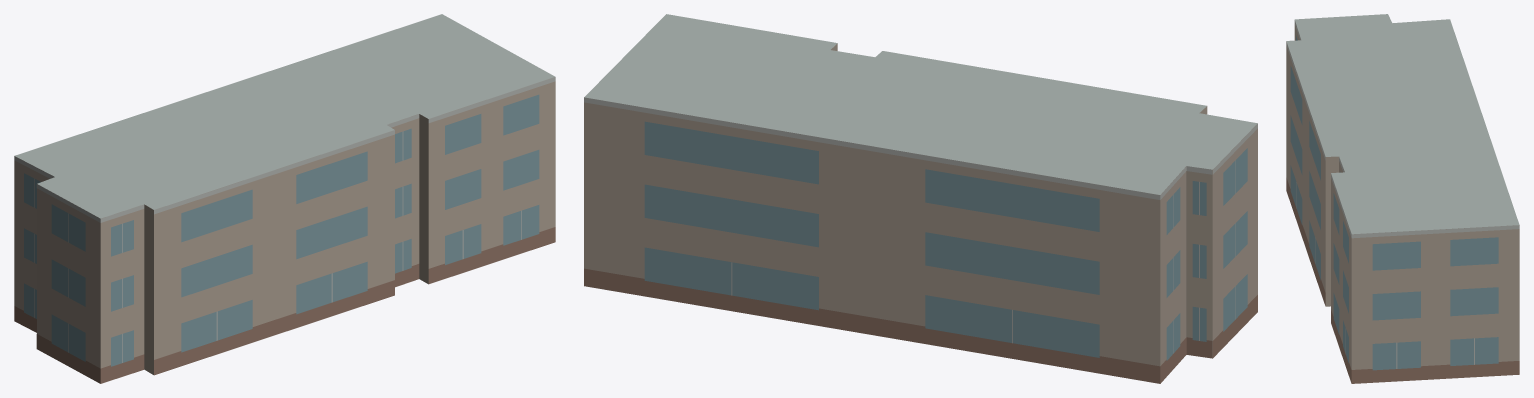
Rendered from survey-upis-33038141.glb.
3 renders of one model, left to right at view 1: azimuth 30°, elevation 25°; view 2: azimuth 150°, elevation 25°; view 3: azimuth 270°, elevation 25°, orthographic. The views are drawn at different scales.
Parts seen in each view (by area): view 1: survey-upis-33038141.tmp; view 2: survey-upis-33038141.tmp; view 3: survey-upis-33038141.tmp.
Boxes of the visible parts, x1,y1,x2,y2 form: survey-upis-33038141.tmp: (14, 14, 555, 383); survey-upis-33038141.tmp: (584, 14, 1257, 383); survey-upis-33038141.tmp: (1286, 14, 1519, 383).
Bounding box in the file's own units: 28.9 × 9.15 × 12.94.
